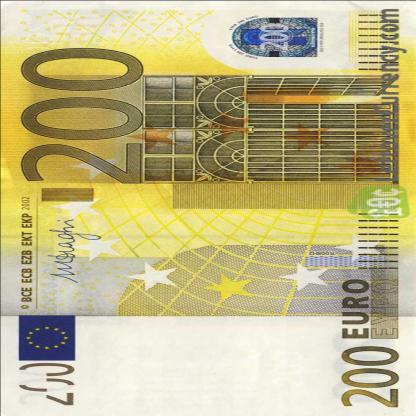euro_banknote: (2, 2, 416, 416)
